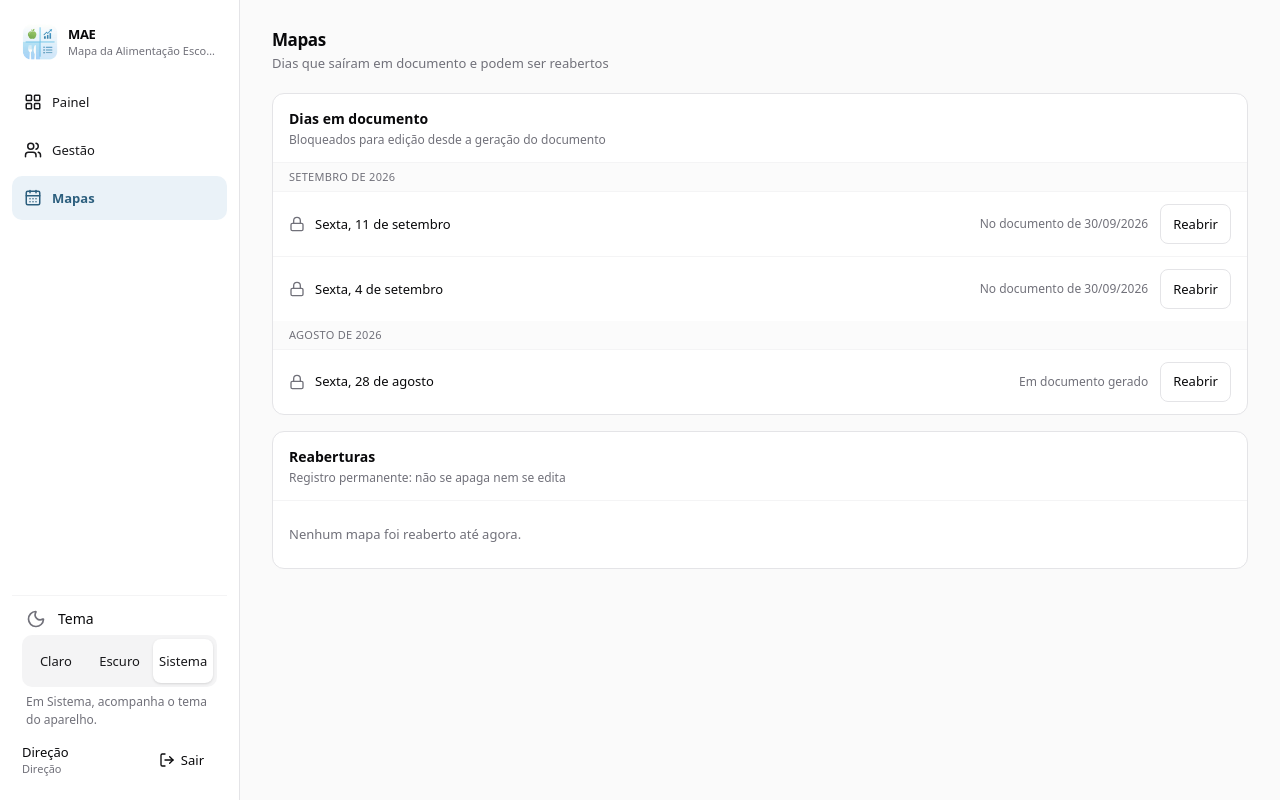
Test: a reabertura › recusa do banco chega com a frase que a própria função escreveu
This screenshot has width=1280, height=800.
Click the button with aria-label "Reabrir o mapa de Sexta, 4 de setembro".
click(1196, 289)  # box [1160,269,1231,309]
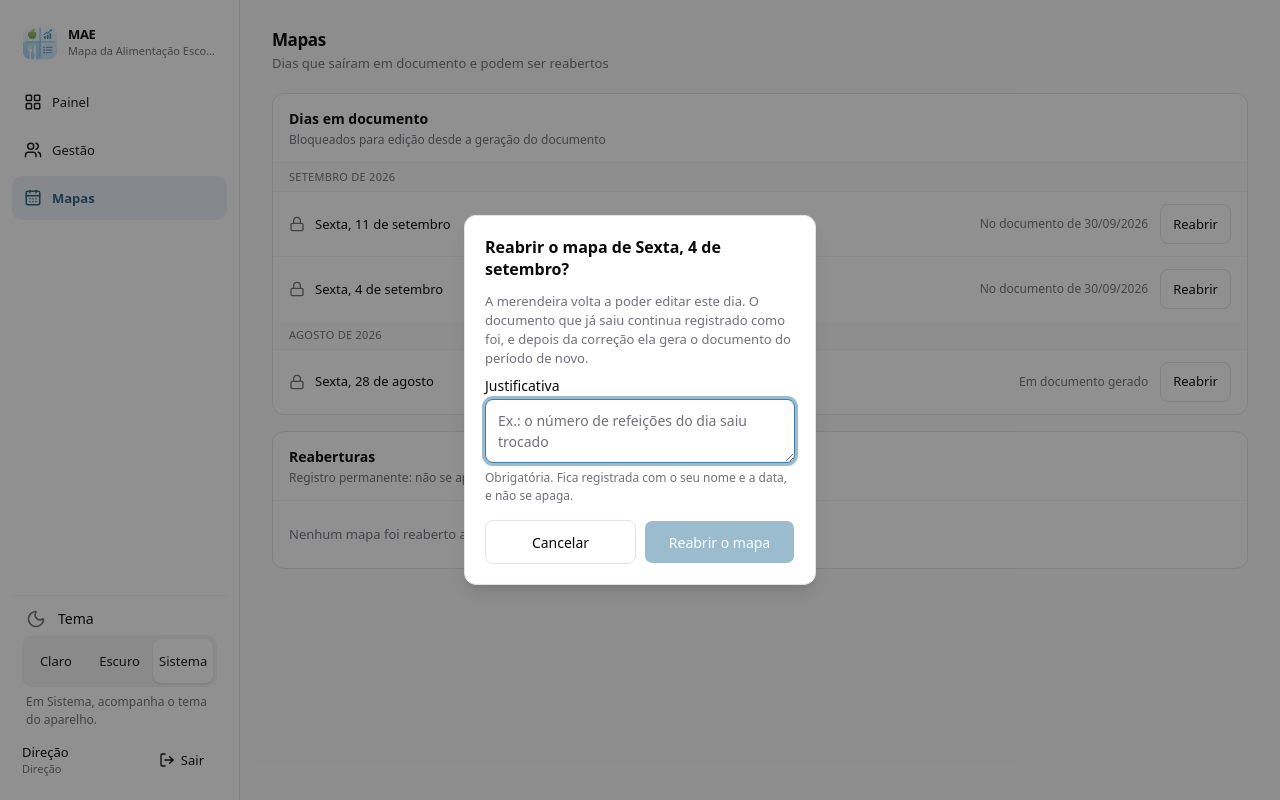
Type "O número de refeições saiu trocado." into the text box labelled "Justificativa".
click(640, 431); type("O número de refeições saiu trocado.")  # box [485,399,795,463]
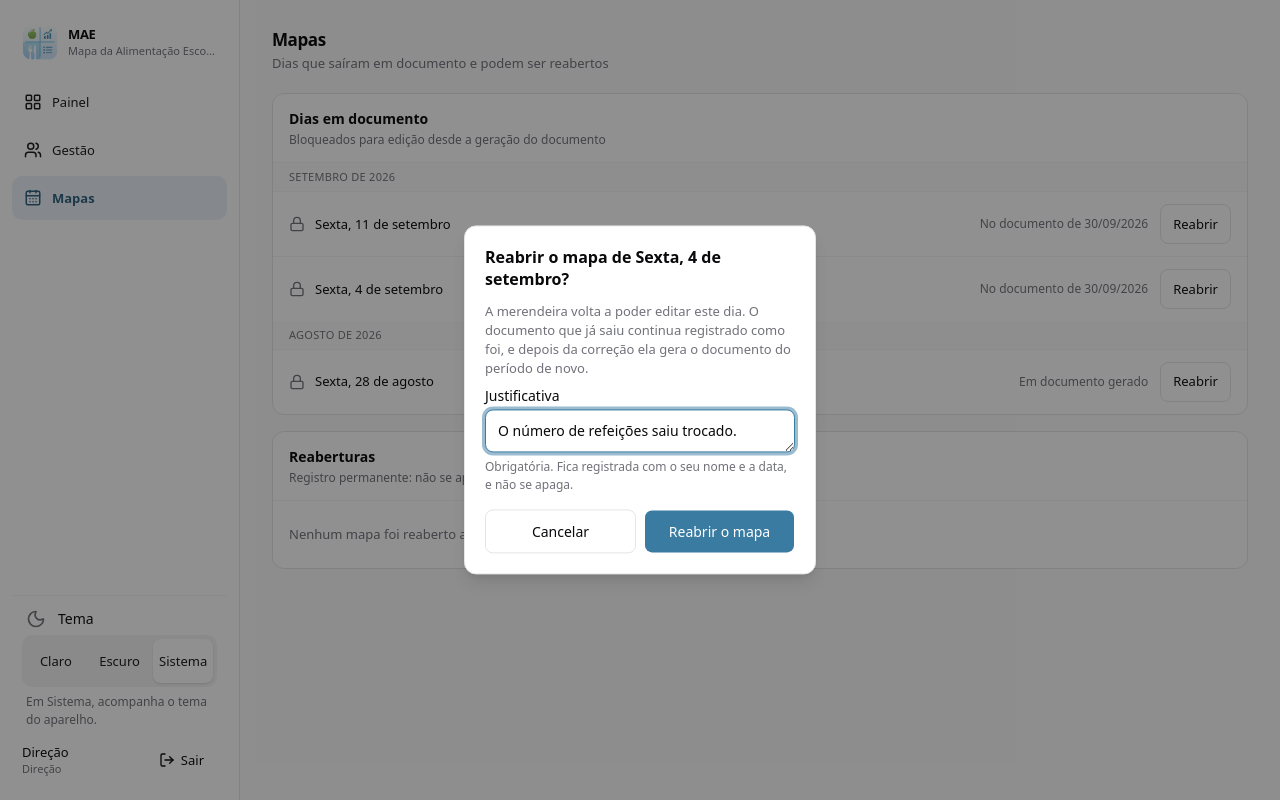
Click the button "Reabrir o mapa".
click(720, 532)  # box [644,510,795,554]
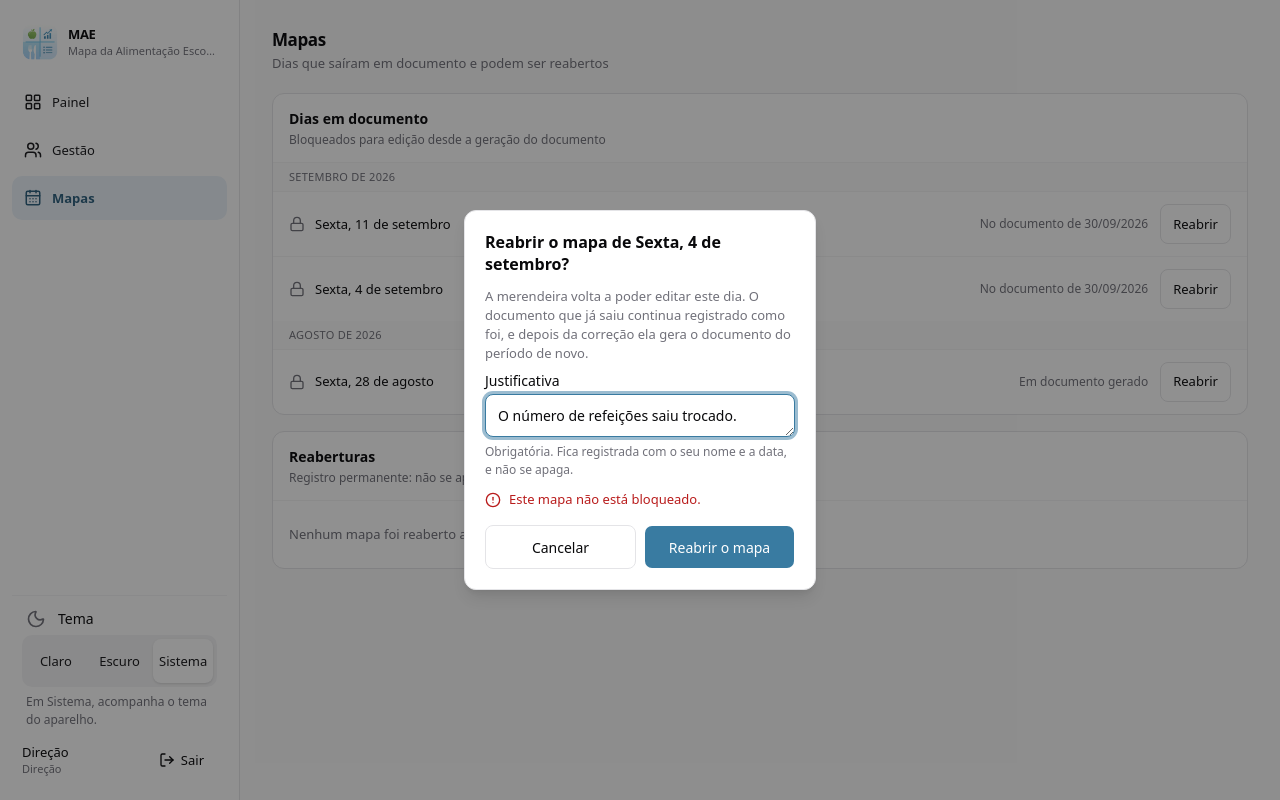
Expected: the text "Este mapa não está bloqueado." is shown, [509,490,701,509]
